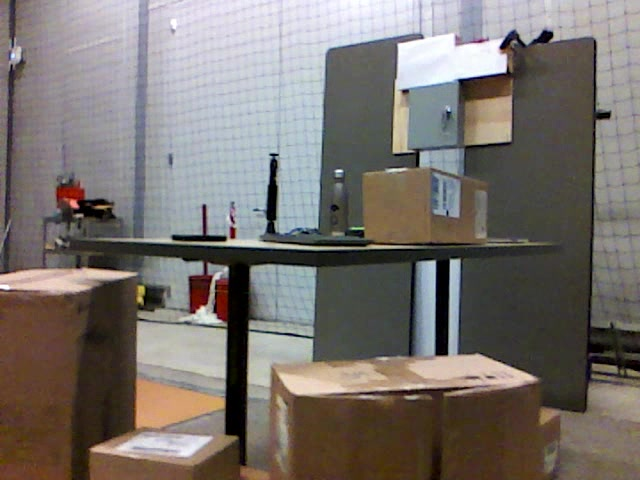box: (272, 354, 539, 480), (1, 269, 135, 480), (362, 169, 488, 244), (88, 429, 238, 480), (540, 407, 560, 479)
